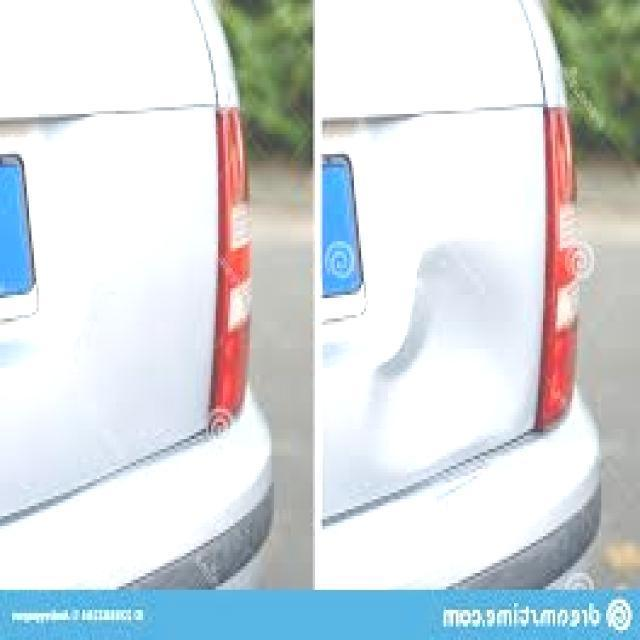minor: (345, 228, 539, 483)
